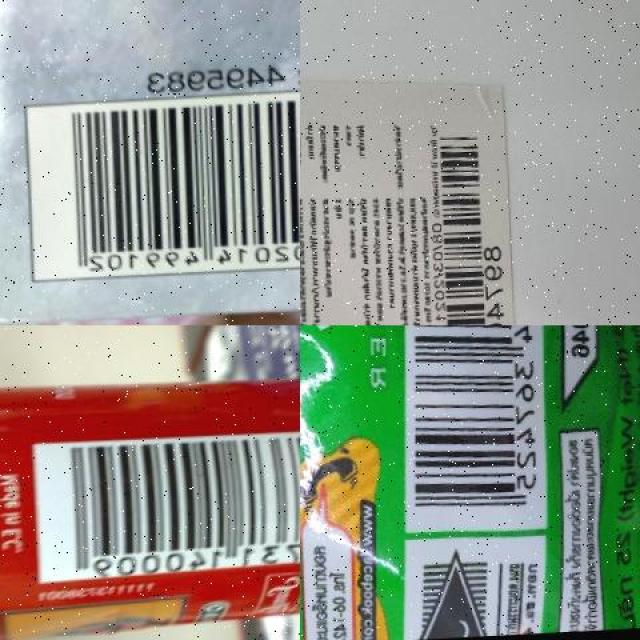Barcode: (20, 92, 300, 284), (29, 429, 300, 582), (388, 325, 540, 536), (429, 119, 507, 325)
